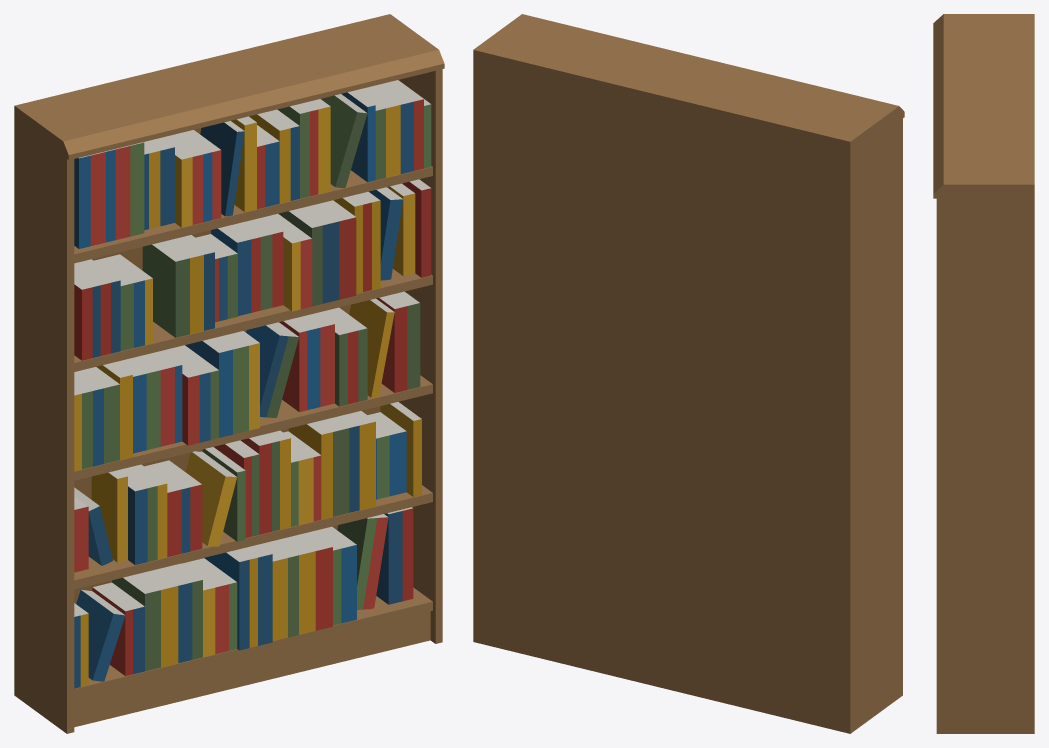
File: stage2_library_shelf_run.glb
3 renders of one model, left to right at view 1: azimuth 30°, elevation 25°; view 2: azimuth 150°, elevation 25°; view 3: azimuth 270°, elevation 25°, orthographic. The views are drawn at different scales.
Visible parts, largest first — view 1: book-rows, carcass; view 2: carcass; view 3: carcass.
Boxes of the visible parts, x1,y1,x2,y2 form: book-rows: (74, 80, 431, 688); carcass: (14, 14, 444, 733); carcass: (473, 14, 904, 733); carcass: (933, 14, 1034, 733).
Size of the model in its own units: 1 by 1.5 by 0.25.
